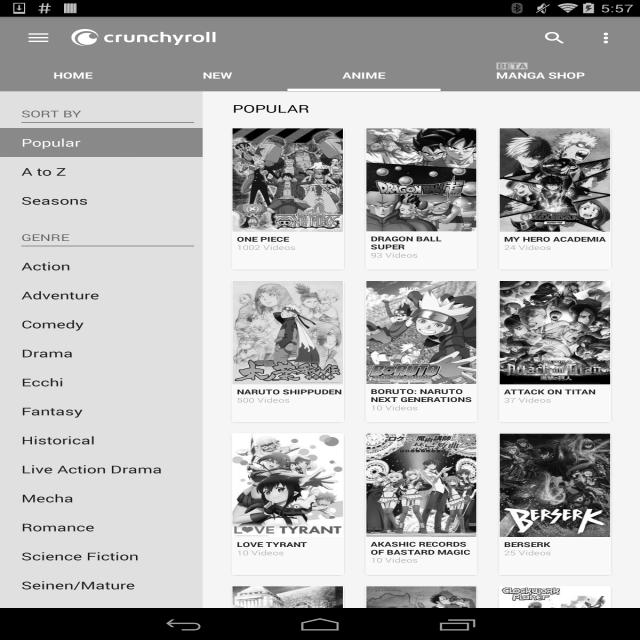ImageButton: (9, 17, 68, 59)
ImageView: (232, 128, 343, 232), (366, 128, 476, 232), (500, 128, 610, 232), (232, 281, 343, 384), (232, 434, 343, 537), (366, 281, 476, 384), (500, 281, 610, 384), (500, 434, 610, 537), (366, 434, 476, 536), (232, 586, 343, 640), (366, 586, 476, 640), (500, 586, 610, 640), (68, 28, 218, 48), (497, 63, 528, 69)
TextView: (440, 59, 640, 91), (0, 280, 203, 310), (0, 338, 203, 368), (0, 396, 203, 426), (0, 454, 203, 484), (0, 512, 203, 542), (0, 570, 203, 600), (0, 128, 203, 157), (0, 157, 203, 186), (0, 186, 203, 215), (0, 368, 203, 397), (0, 483, 203, 512), (0, 252, 203, 280), (0, 310, 203, 338), (0, 426, 203, 454), (0, 542, 203, 570), (0, 600, 203, 628), (288, 59, 440, 92), (0, 59, 148, 92), (148, 59, 287, 92), (221, 91, 310, 126), (21, 107, 194, 120), (21, 231, 194, 244), (366, 234, 476, 251), (366, 387, 476, 404), (366, 540, 476, 556), (580, 22, 632, 54), (529, 22, 580, 54), (500, 234, 606, 244), (232, 387, 342, 396), (500, 387, 596, 396), (232, 540, 308, 549), (232, 395, 294, 405), (232, 243, 300, 252), (233, 234, 289, 244), (366, 250, 422, 260), (366, 555, 422, 565), (500, 395, 555, 405), (366, 403, 422, 412), (500, 243, 555, 252), (233, 548, 288, 557), (500, 548, 555, 557), (500, 540, 550, 549)
